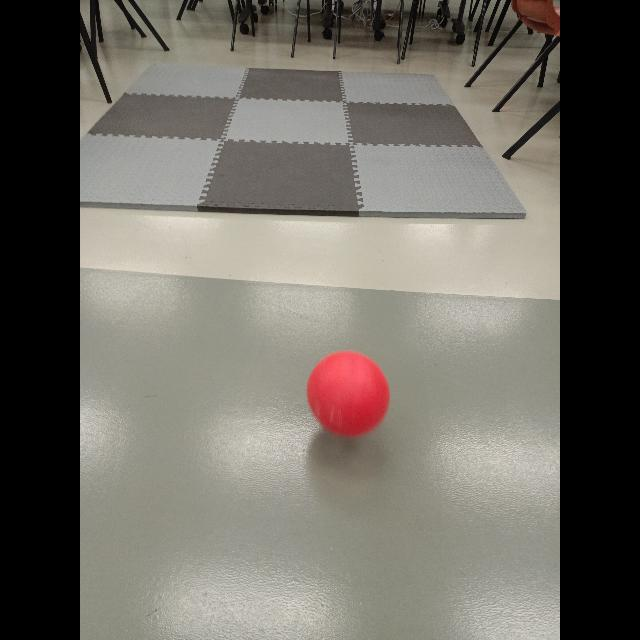R: (306, 349, 390, 438)
